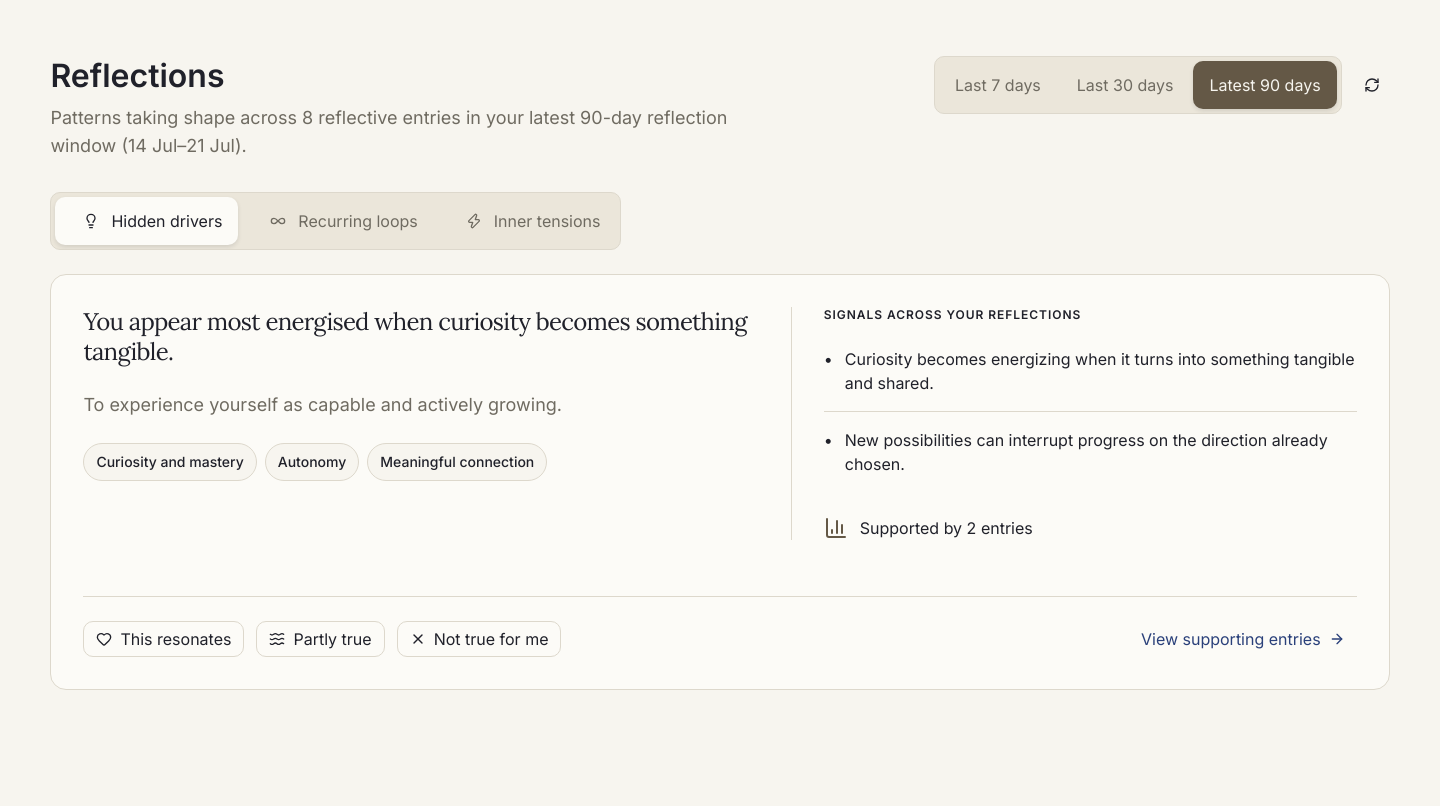
Test case: ReflectionsScreen › keeps available tabs usable when one section is insufficient
Expected: the text "Supported by 2 entries" is shown, left=860, top=516, right=1033, bottom=540
Click the radio button labelled "Recurring loops" at (338, 221), box left=242, top=197, right=434, bottom=245
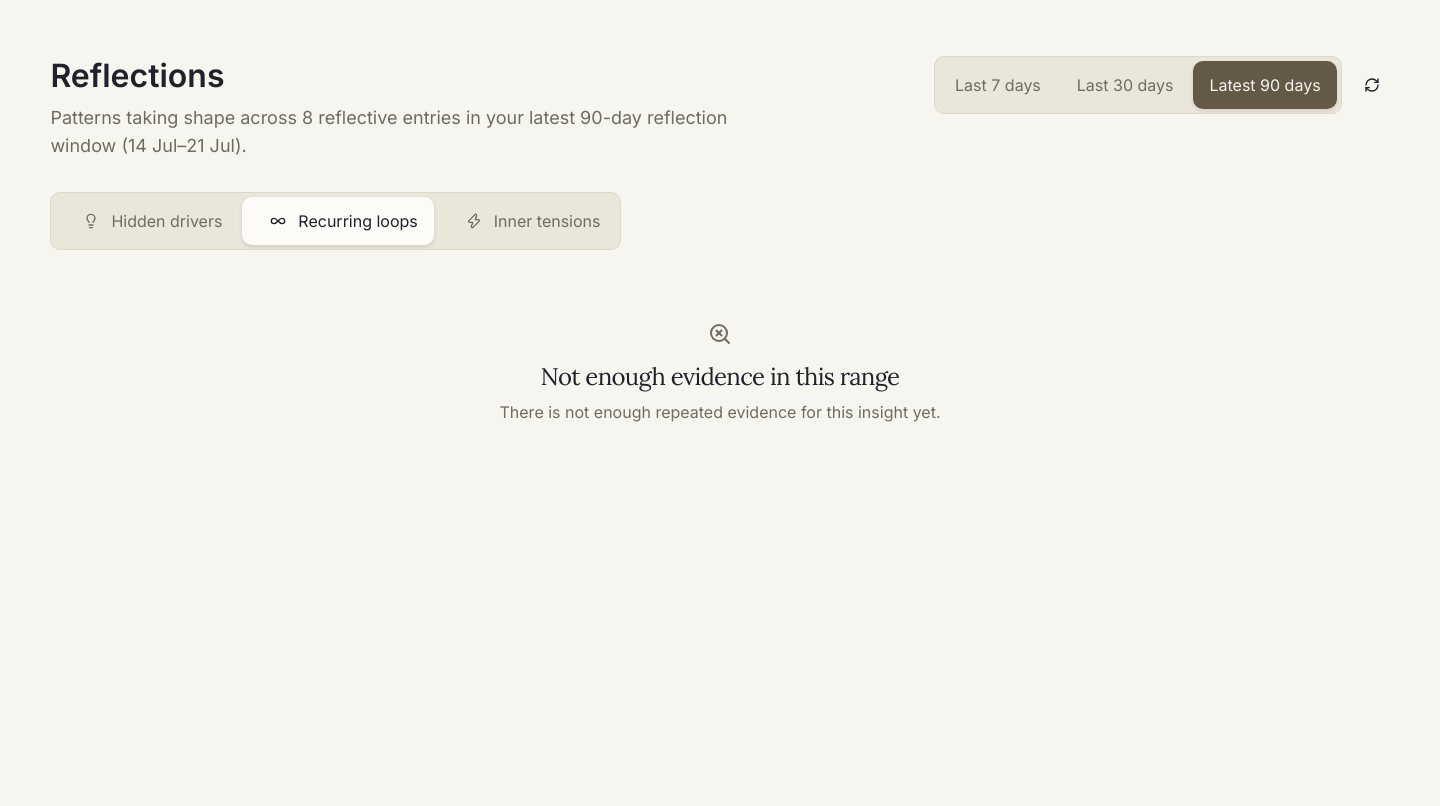
Expected: the text "There is not enough repeated evidence for this insight yet." is shown, left=500, top=400, right=940, bottom=424
Click the radio button labelled "Inner tensions" at (527, 221), box left=438, top=197, right=616, bottom=245
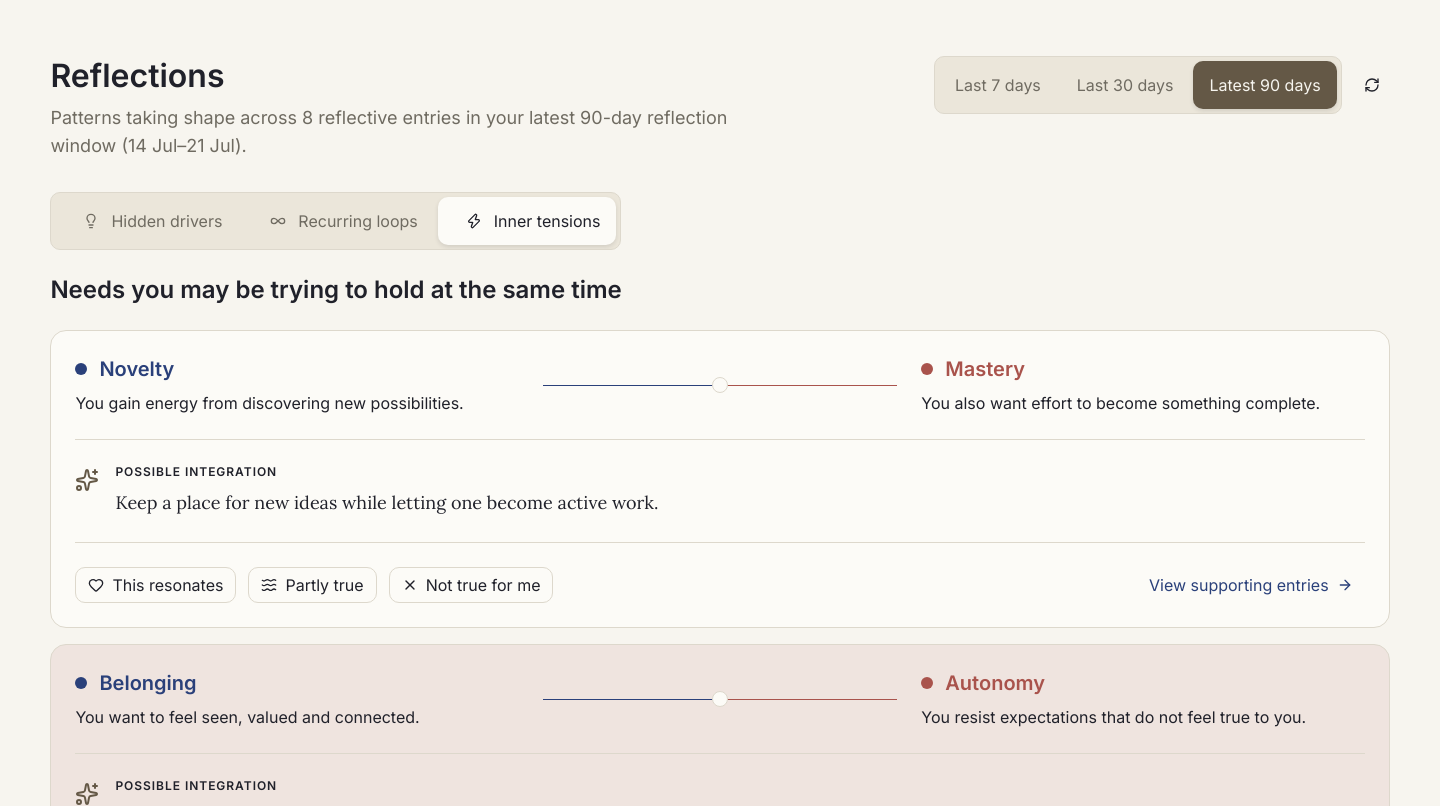
Expected: the text "Possible integration" is shown 2 times, left=115, top=464, right=277, bottom=479; left=115, top=778, right=277, bottom=793
